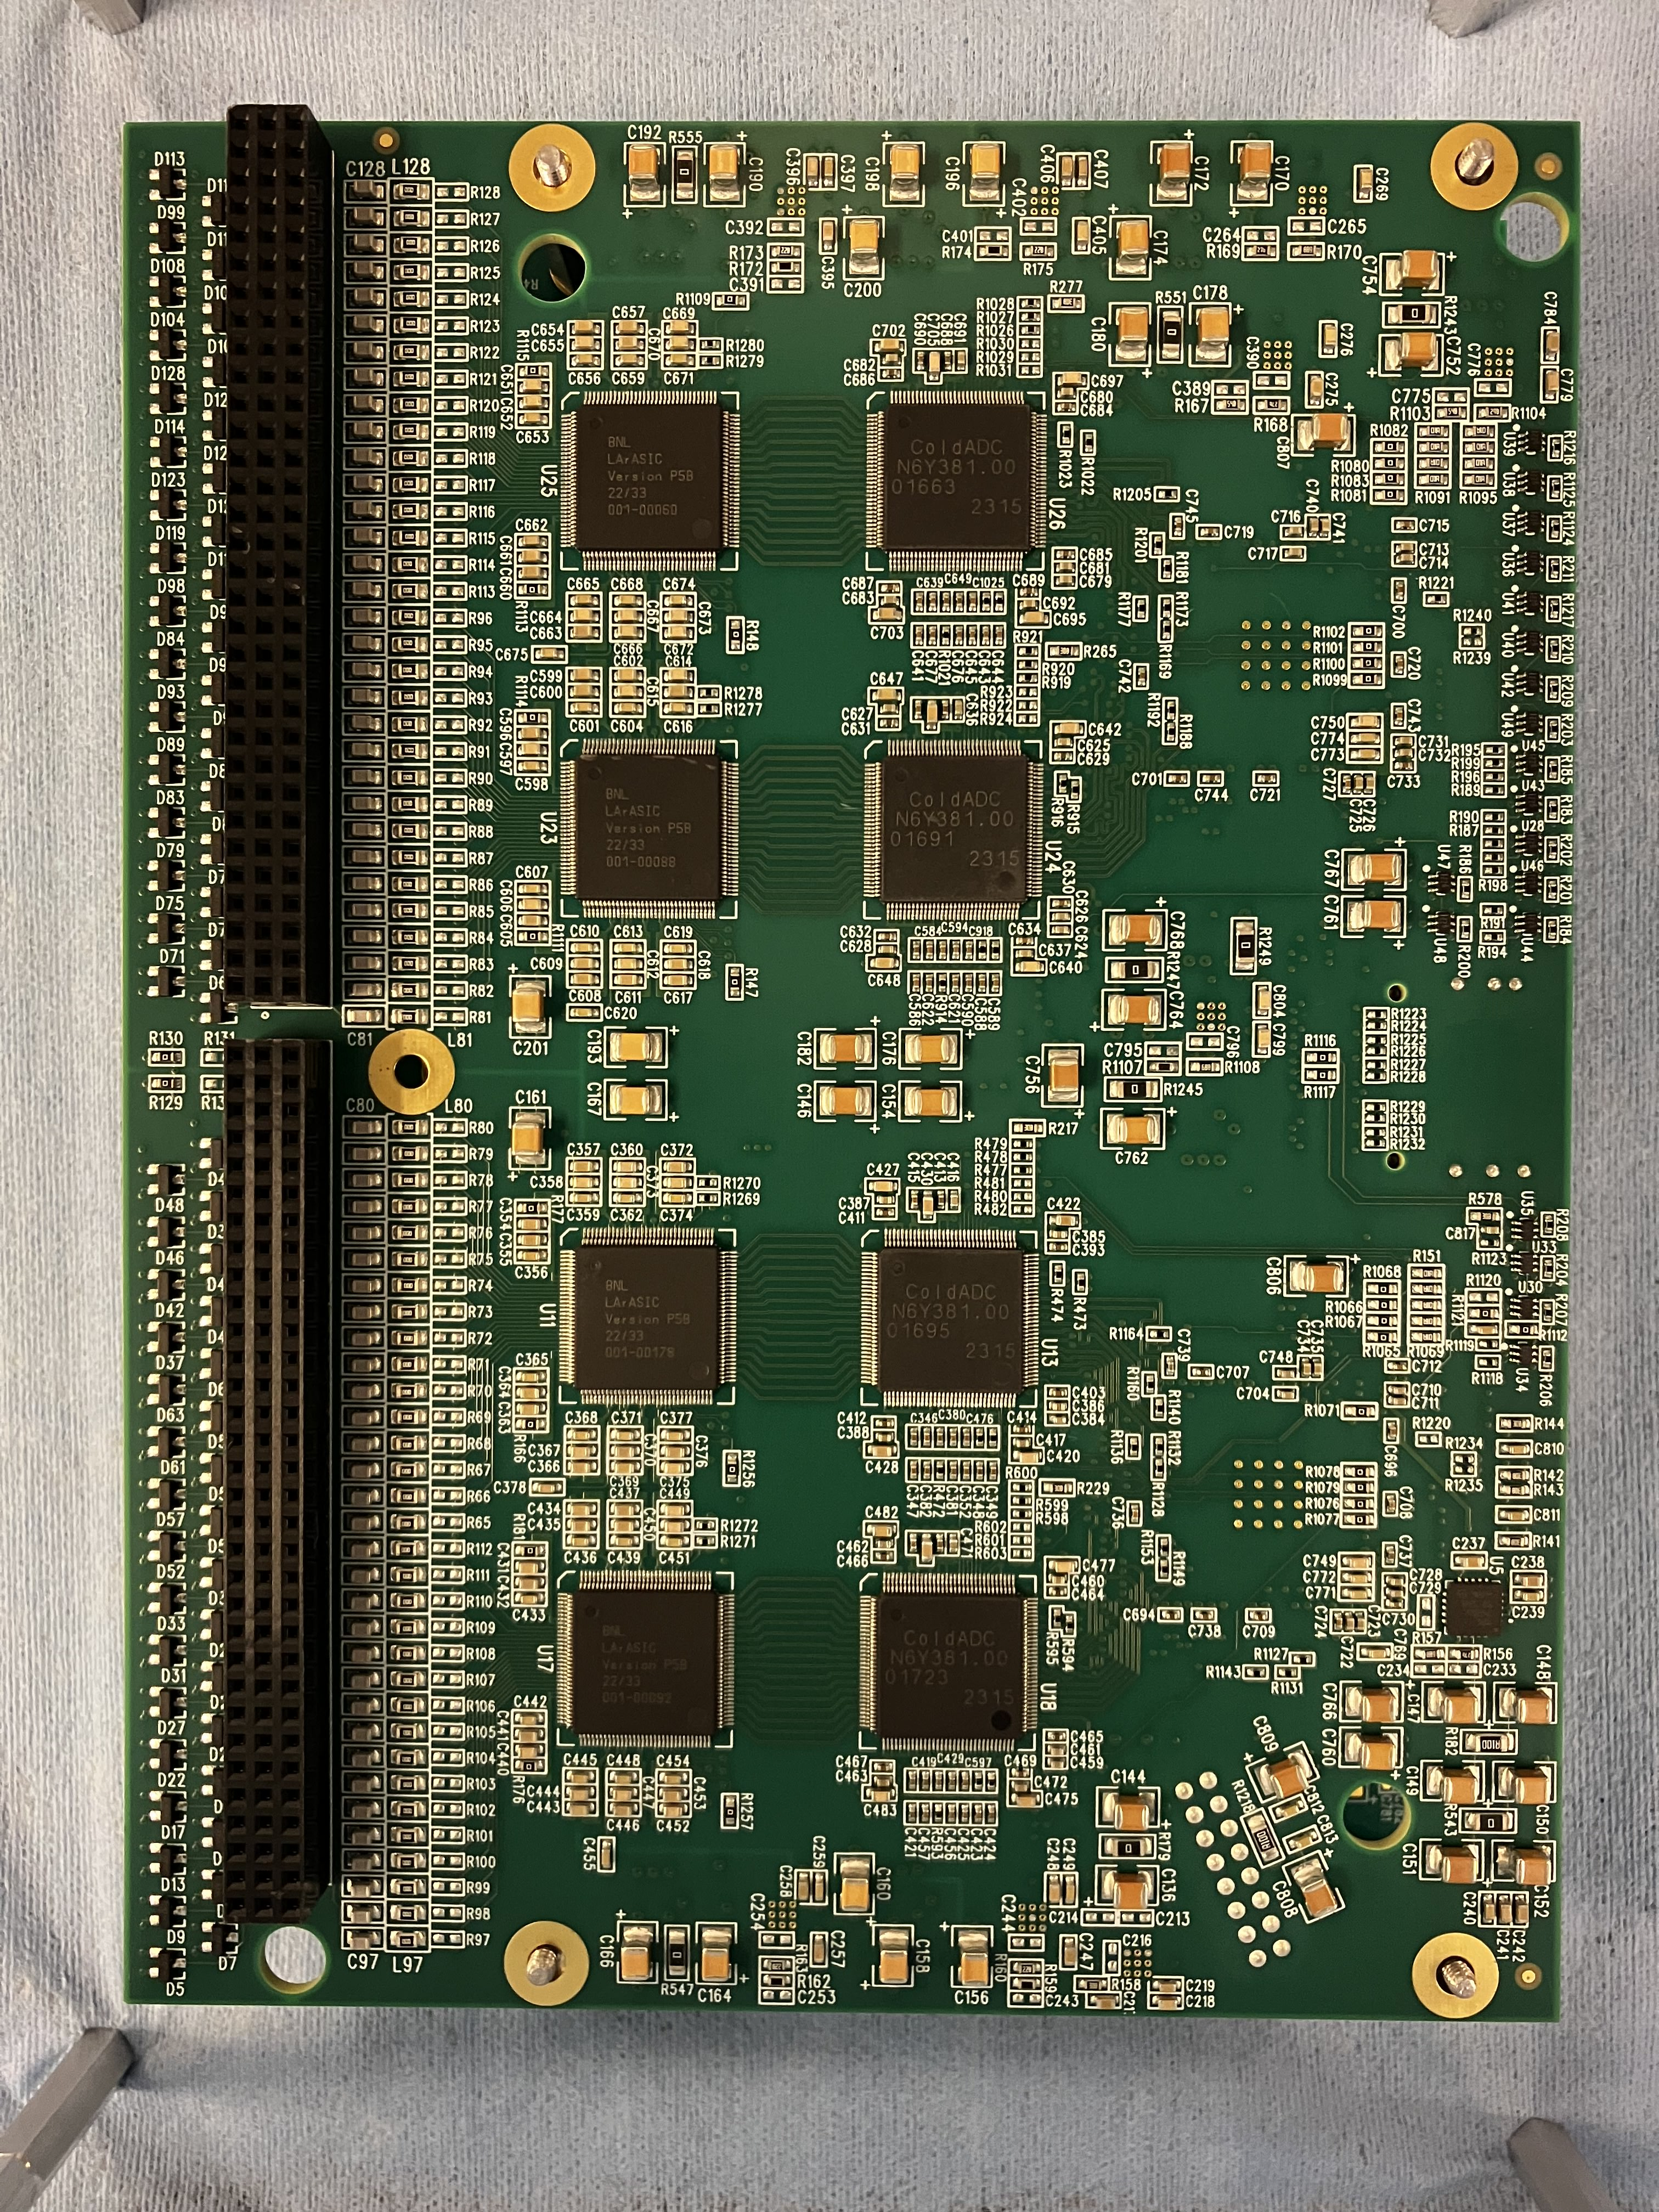chip: (873, 1583, 1026, 1737), (572, 749, 723, 900), (575, 399, 725, 550), (880, 404, 1030, 556), (877, 752, 1028, 902), (570, 1238, 720, 1390), (878, 1240, 1028, 1392), (570, 1581, 720, 1733)
